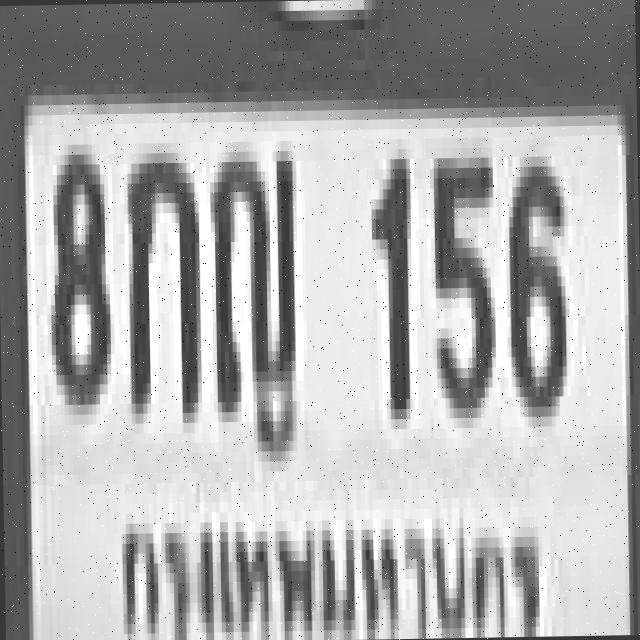1: (366, 148, 410, 410)
10GorGai: (122, 142, 198, 414)
22YorYing: (207, 136, 294, 417)
5: (429, 147, 493, 408)
6: (504, 146, 564, 407)
8: (44, 144, 108, 405)
Bangkok: (102, 475, 542, 640)
